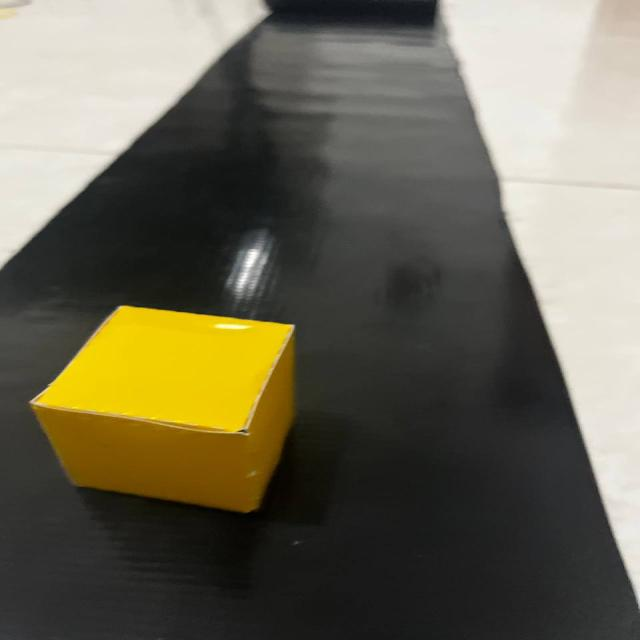Amarillo: (25, 290, 309, 530)
